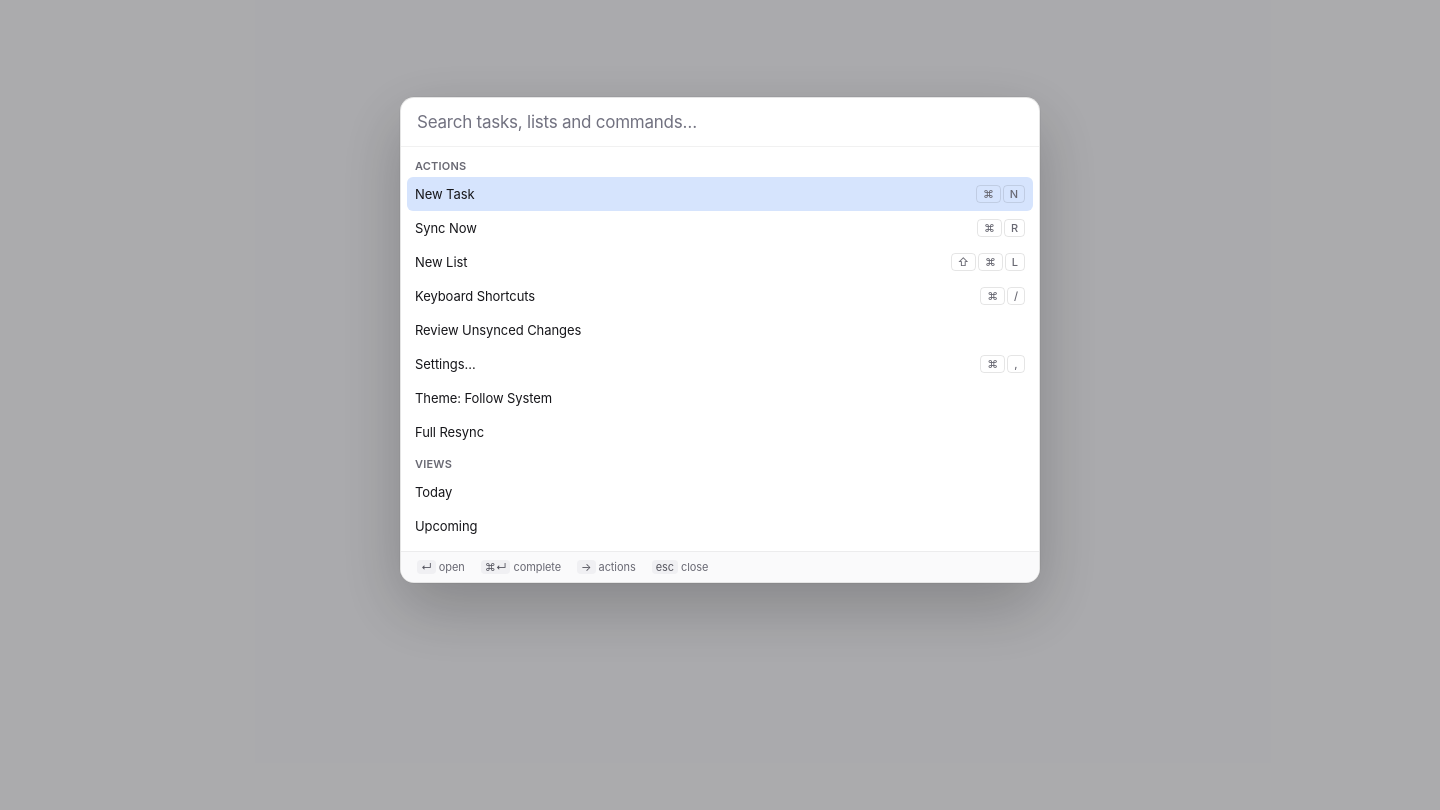
Test: CommandPalette › shows a mode pill for a prefix
Type ">" into the dropdown at (720, 122), box [417,106,1023,138]
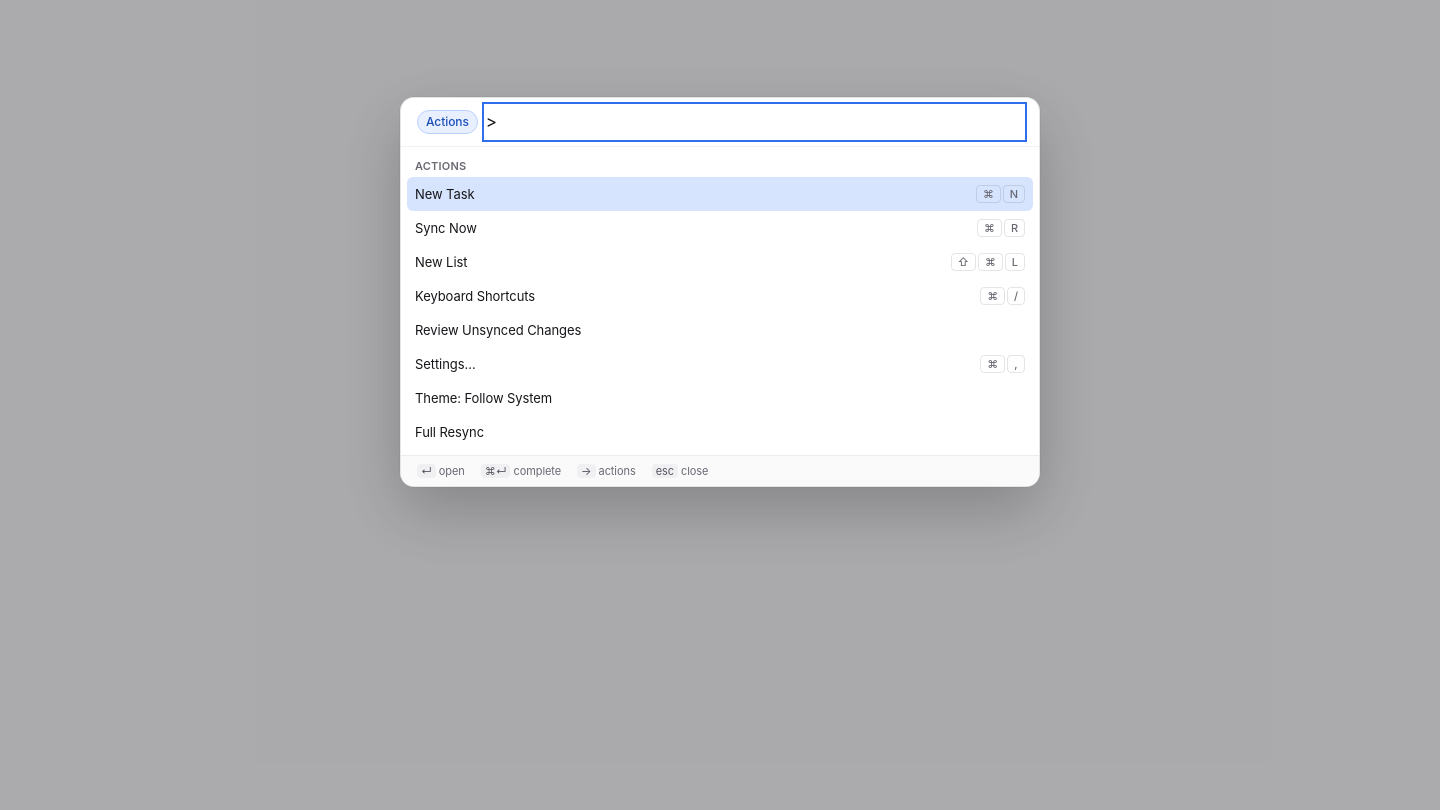
Expected: the text "Actions" is shown, [417,110,478,134]
